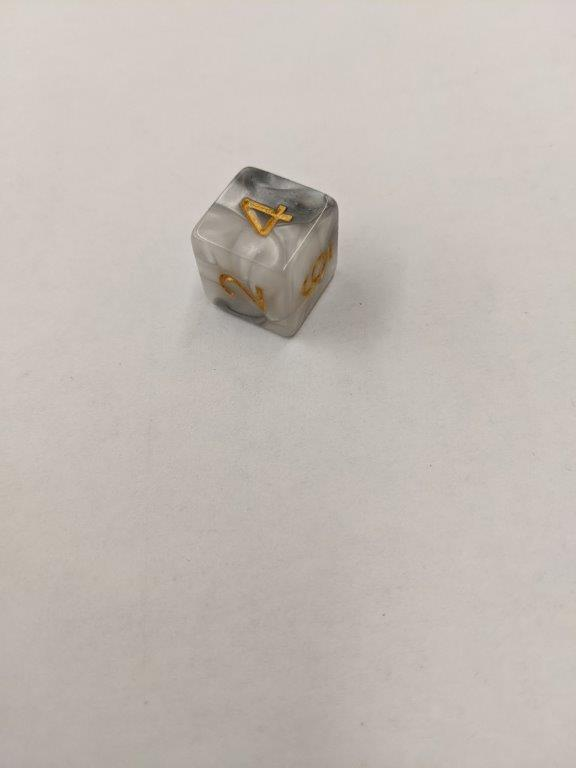d6-4: (189, 165, 338, 339)
